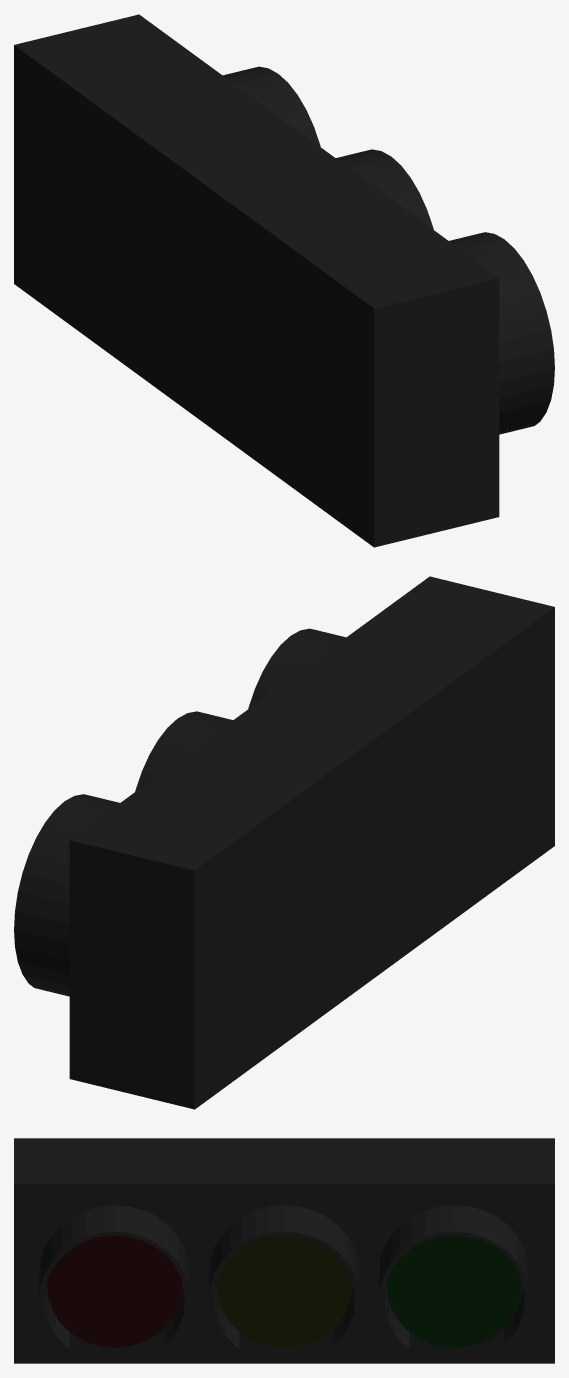
The model's file is traffic_light.glb.
The picture shows the model from 3 angles, top to bottom: view 1: azimuth 30°, elevation 25°; view 2: azimuth 150°, elevation 25°; view 3: azimuth 270°, elevation 25°; orthographic projection. The views are drawn at different scales.
Visible parts, largest first — view 1: TrafficLight_Body; view 2: TrafficLight_Body; view 3: TrafficLight_Body, Light_Green, Light_Red, Light_Yellow.
Part boxes in pixels (bbox=[...]): TrafficLight_Body: bbox=[14, 14, 554, 547]; TrafficLight_Body: bbox=[14, 576, 554, 1109]; TrafficLight_Body: bbox=[14, 1138, 554, 1363]; Light_Green: bbox=[387, 1235, 521, 1347]; Light_Red: bbox=[47, 1235, 181, 1347]; Light_Yellow: bbox=[217, 1235, 351, 1347].
Bounding box in the file's own units: 2.02 × 2.33 × 6.37.
